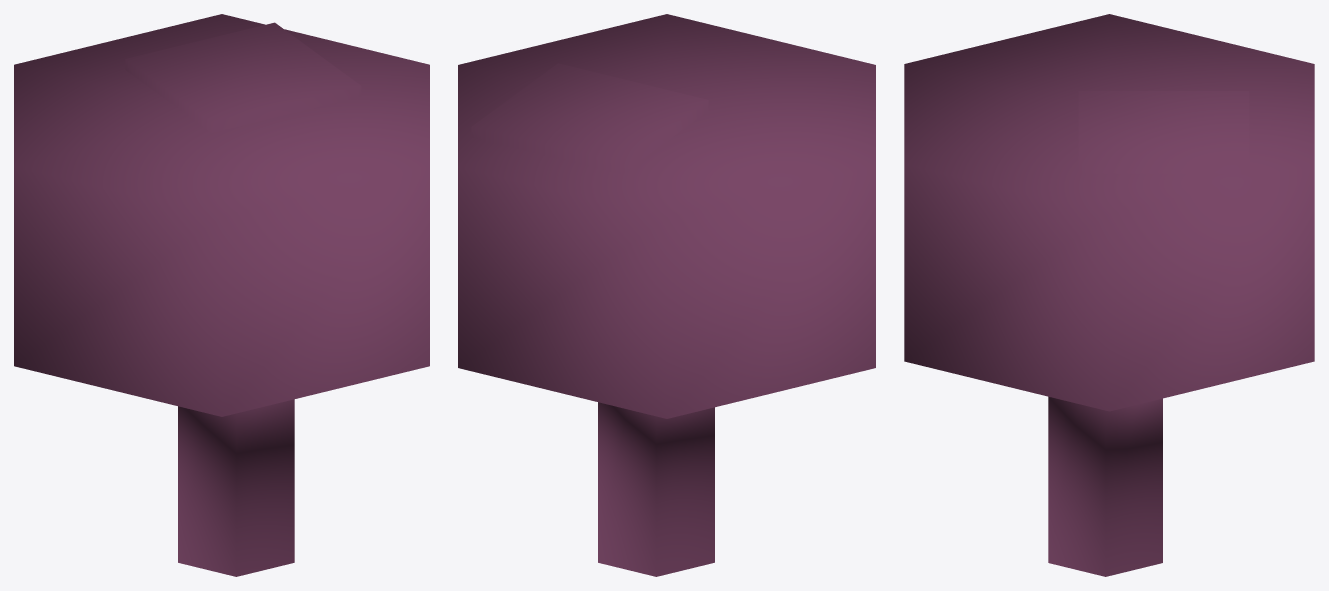
The model's file is ps2_jrpg_coastal_palm_tree.obj.
The picture shows the model from 3 angles, left to right: view 1: azimuth 30°, elevation 25°; view 2: azimuth 150°, elevation 25°; view 3: azimuth 270°, elevation 25°; orthographic projection.
Size of the model in its own units: 2 by 2.05 by 1.73.
